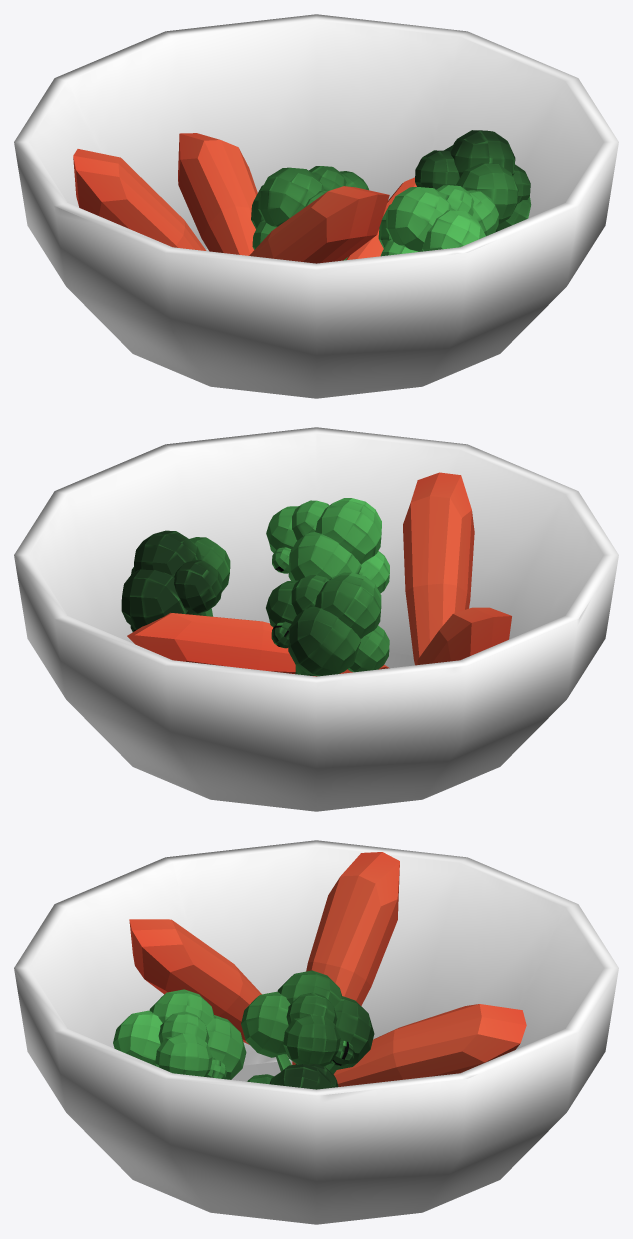
Rendered from veg.gltf.
The picture shows the model from 3 angles, top to bottom: view 1: azimuth 30°, elevation 25°; view 2: azimuth 150°, elevation 25°; view 3: azimuth 270°, elevation 25°; orthographic projection.
Visible parts, largest first — view 1: kimchbowl, carotes; view 2: kimchbowl, carotes; view 3: kimchbowl, carotes.
Part boxes in pixels (<box>): kimchbowl: <box>14,14,618,398</box>; carotes: <box>73,130,531,263</box>; kimchbowl: <box>14,427,618,811</box>; carotes: <box>121,472,511,676</box>; kimchbowl: <box>14,840,618,1224</box>; carotes: <box>113,852,526,1089</box>.
Size of the model in its own units: 0.2783 by 0.0969 by 0.2783.
3 materials, 3 textured.
